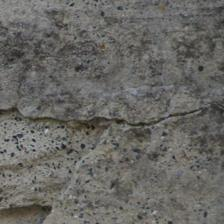Crack: (7, 69, 217, 149), (6, 27, 103, 47), (92, 25, 120, 93)
